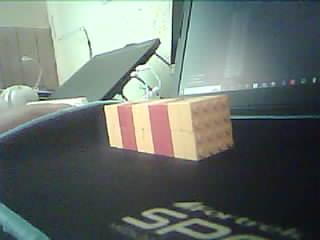lego: (104, 93, 233, 162)
